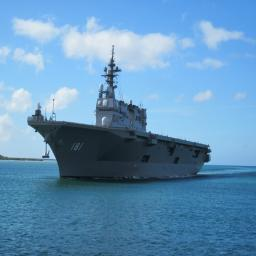Portanaves: (27, 44, 215, 184)
